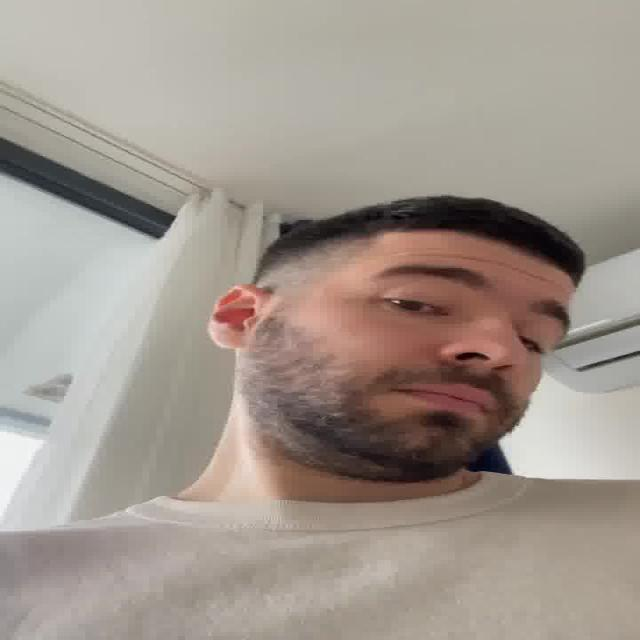earlobe: (217, 330, 248, 350)
eye: (378, 295, 451, 317), (515, 332, 548, 357)
nose: (436, 357, 510, 391)
wholeear: (208, 283, 270, 350)
